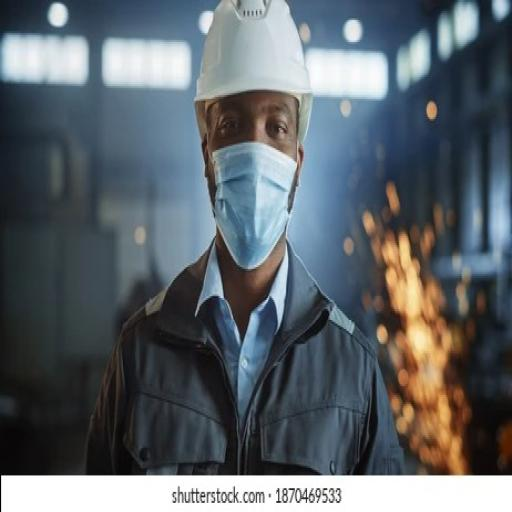mask: (214, 144, 298, 260)
